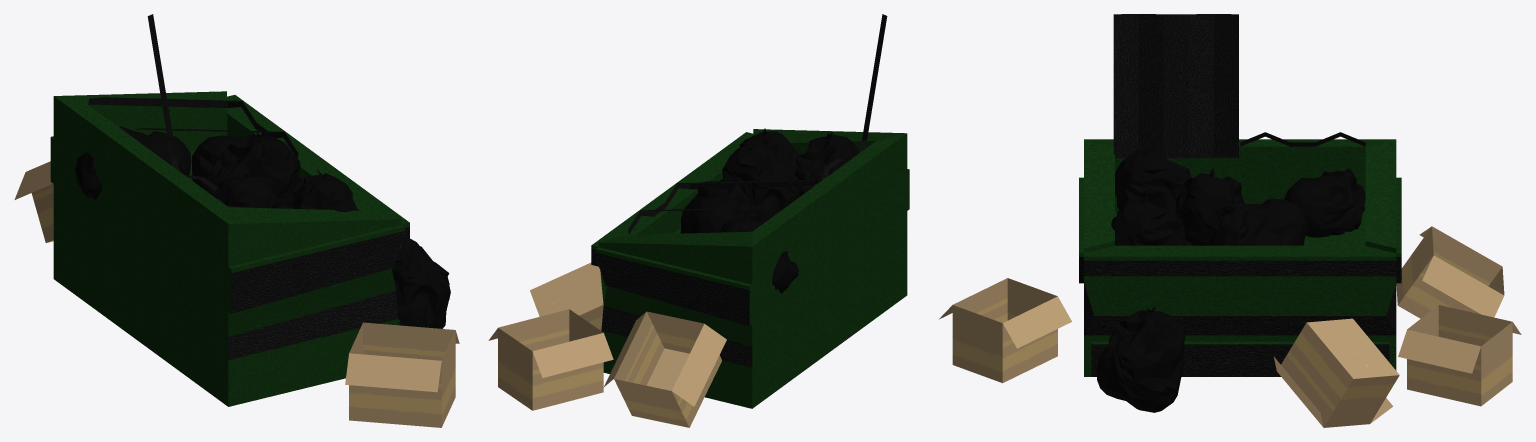
Rendered from TrashBin.glb.
3 renders of one model, left to right at view 1: azimuth 30°, elevation 25°; view 2: azimuth 150°, elevation 25°; view 3: azimuth 270°, elevation 25°, orthographic. The views are drawn at different scales.
Visible parts, largest first — view 1: Cube, Cube.001, Cube.010, Cube.007, Cube.009, Cube.012, Cube.002, Cube.008, Cube.006, Cube.003, Cube.011; view 2: Cube, Cube.006, Cube.004, Cube.007, Cube.005, Cube.011, Cube.008, Cube.002, Cube.012, Cube.009, Cube.003; view 3: Cube, Cube.003, Cube.005, Cube.001, Cube.004, Cube.010, Cube.006, Cube.012, Cube.011, Cube.007, Cube.008, Cube.009 (+1 smaller).
Part boxes in pixels (<box>): Cube: <box>50,91,409,406</box>; Cube.001: <box>345,322,459,427</box>; Cube.010: <box>392,238,450,328</box>; Cube.007: <box>202,131,300,196</box>; Cube.009: <box>275,169,357,212</box>; Cube.012: <box>75,126,191,199</box>; Cube.002: <box>88,97,298,158</box>; Cube.008: <box>205,168,277,208</box>; Cube.006: <box>14,161,53,242</box>; Cube.003: <box>147,14,242,207</box>; Cube.011: <box>192,135,300,187</box>; Cube: <box>591,129,909,408</box>; Cube.006: <box>604,311,726,427</box>; Cube.004: <box>488,309,613,410</box>; Cube.007: <box>722,142,800,223</box>; Cube.005: <box>530,262,603,330</box>; Cube.011: <box>680,178,757,233</box>; Cube.008: <box>794,131,859,196</box>; Cube.002: <box>628,180,814,234</box>; Cube.012: <box>719,217,798,293</box>; Cube.009: <box>739,128,798,173</box>; Cube.003: <box>802,14,887,187</box>; Cube: <box>1079,139,1401,376</box>; Cube.003: <box>1113,14,1238,158</box>; Cube.005: <box>1273,318,1399,427</box>; Cube.001: <box>939,278,1071,383</box>; Cube.004: <box>1398,305,1521,406</box>; Cube.010: <box>1096,307,1185,412</box>; Cube.006: <box>1396,226,1504,318</box>; Cube.012: <box>1284,168,1365,237</box>; Cube.011: <box>1208,198,1308,245</box>; Cube.007: <box>1175,168,1246,245</box>; Cube.008: <box>1115,148,1191,214</box>; Cube.009: <box>1111,195,1192,245</box>.
Bounding box in the file's own units: 4.35 × 5.05 × 8.44.
4 materials, 3 textured.
